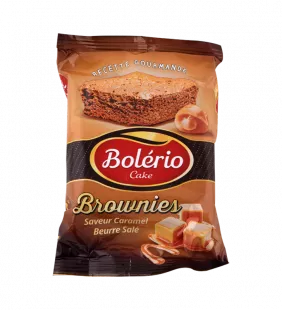Promotion: (45, 29, 236, 284)
